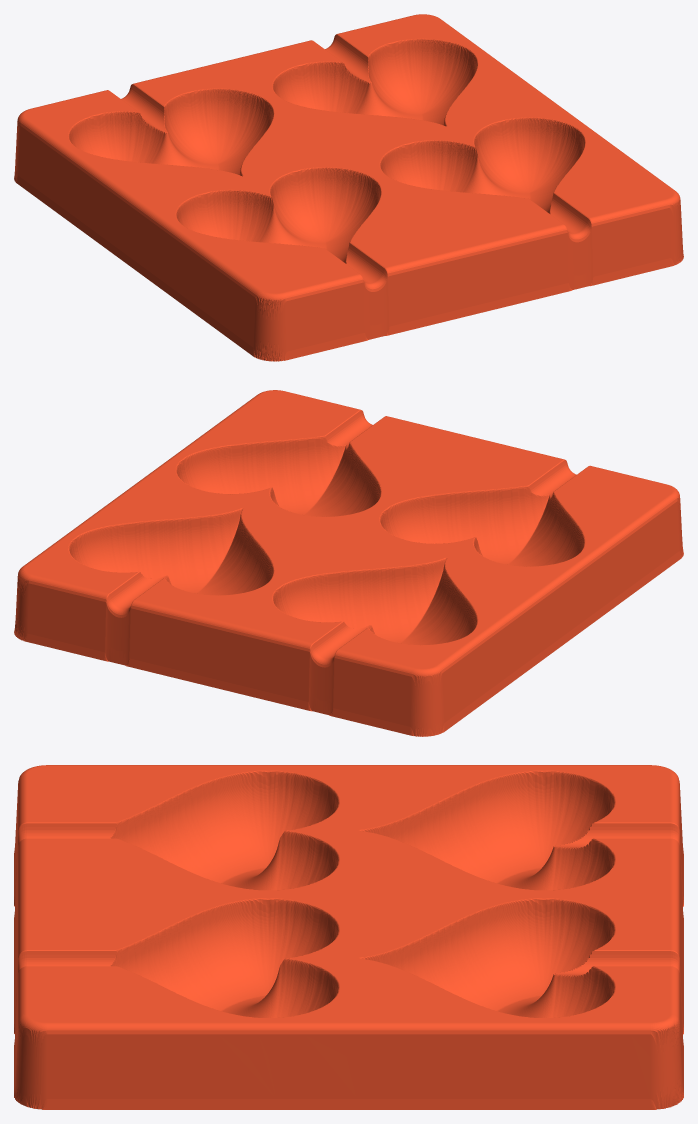
The model's file is mold.glb.
3 views of the same model, one above another, from view 1: azimuth 30°, elevation 25°; view 2: azimuth 150°, elevation 25°; view 3: azimuth 270°, elevation 25° (orthographic). The views are drawn at different scales.
Visible parts, largest first — view 1: geometry_0; view 2: geometry_0; view 3: geometry_0.
Boxes of the visible parts, <box> form: geometry_0: <box>14,14,683,361</box>; geometry_0: <box>14,390,683,736</box>; geometry_0: <box>14,765,683,1109</box>.
Bounding box in the file's own units: 0.1726 × 0.0245 × 0.1824.
